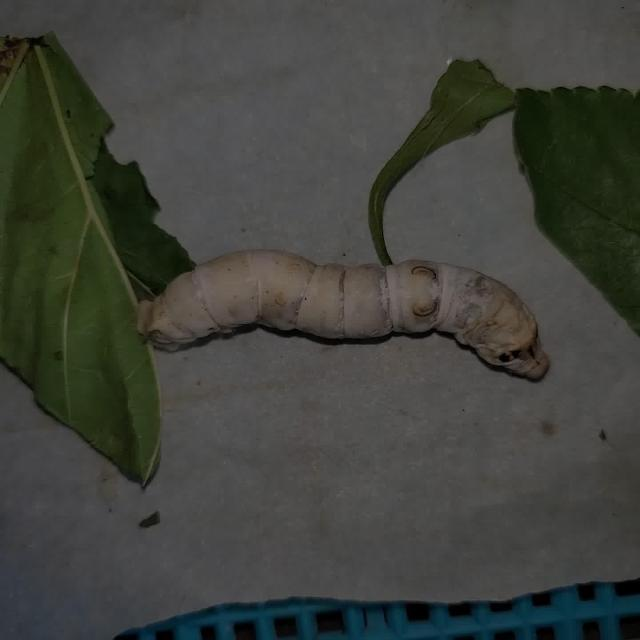Grasserie: (116, 210, 584, 428)
